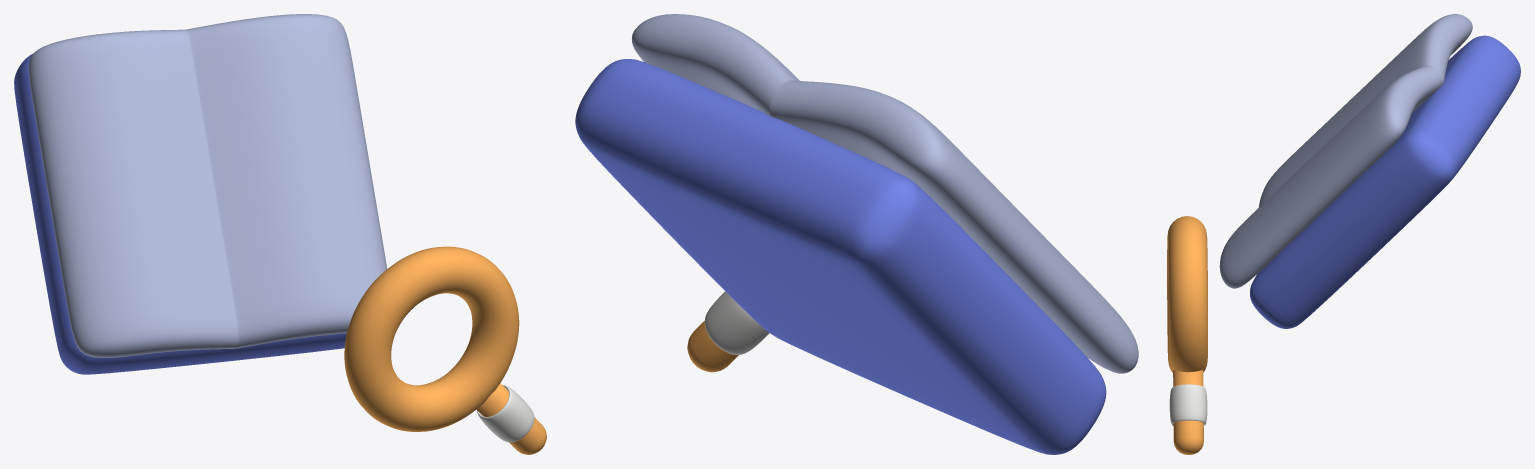
File: book-searching-animated-3d-icon-1394368448811.glb
3 views of the same model, side by side, from view 1: azimuth 30°, elevation 25°; view 2: azimuth 150°, elevation 25°; view 3: azimuth 270°, elevation 25° (orthographic). The views are drawn at different scales.
Visible parts, largest first — view 1: Plane, Torus, Cube, Cylinder.001, Cylinder; view 2: Cube, Plane, Cylinder.001, Cylinder; view 3: Cube, Plane, Torus, Cylinder, Cylinder.001.
Boxes of the visible parts, x1=… form: Plane: x1=28, y1=14, x2=387, y2=357; Torus: x1=344, y1=246, x2=519, y2=431; Cube: x1=14, y1=54, x2=346, y2=374; Cylinder.001: x1=477, y1=385, x2=534, y2=442; Cylinder: x1=476, y1=383, x2=546, y2=454; Cube: x1=575, y1=59, x2=1106, y2=454; Plane: x1=632, y1=14, x2=1138, y2=373; Cylinder.001: x1=704, y1=291, x2=769, y2=354; Cylinder: x1=687, y1=321, x2=738, y2=372; Cube: x1=1250, y1=35, x2=1520, y2=328; Plane: x1=1219, y1=14, x2=1472, y2=288; Torus: x1=1167, y1=216, x2=1207, y2=372; Cylinder: x1=1173, y1=370, x2=1203, y2=454; Cylinder.001: x1=1169, y1=384, x2=1207, y2=426.
Size of the model in its own units: 2.72 by 2.46 by 2.5.
